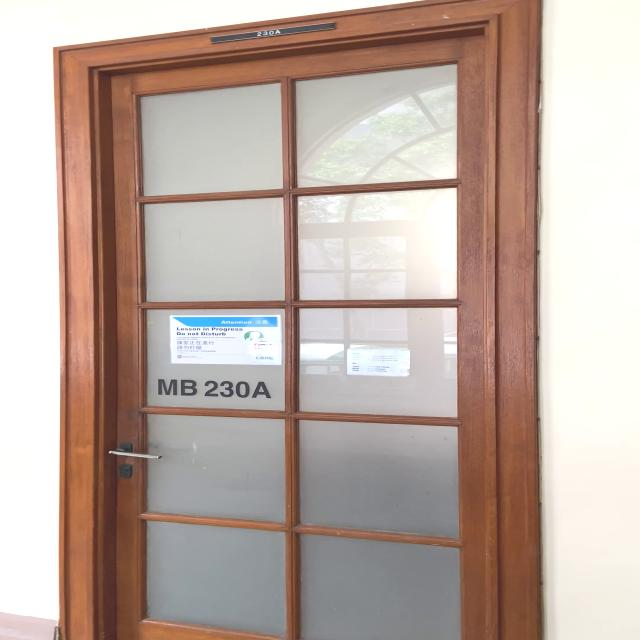room230A: (207, 21, 336, 45)
room230AWindow: (154, 376, 274, 402)
